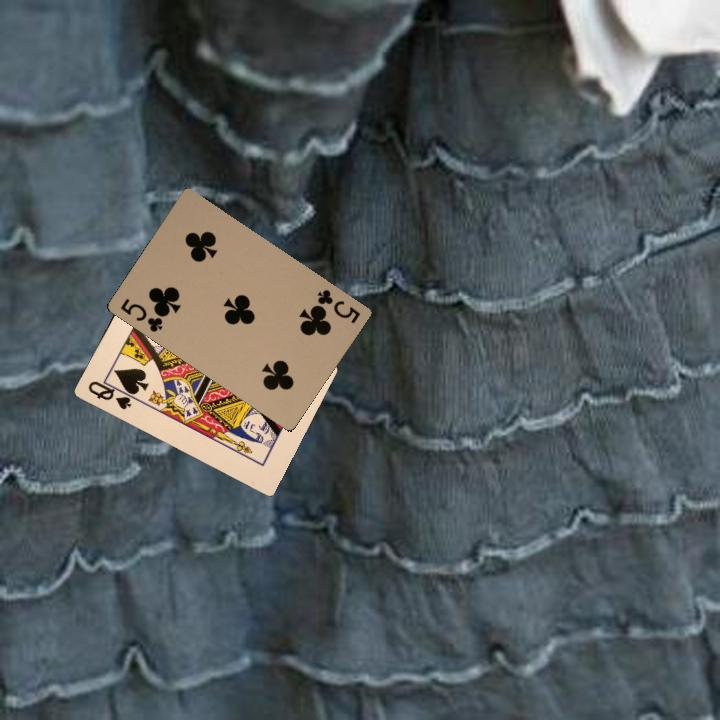5c: (116, 294, 166, 335), (313, 285, 363, 326)
Qs: (84, 377, 139, 412)
